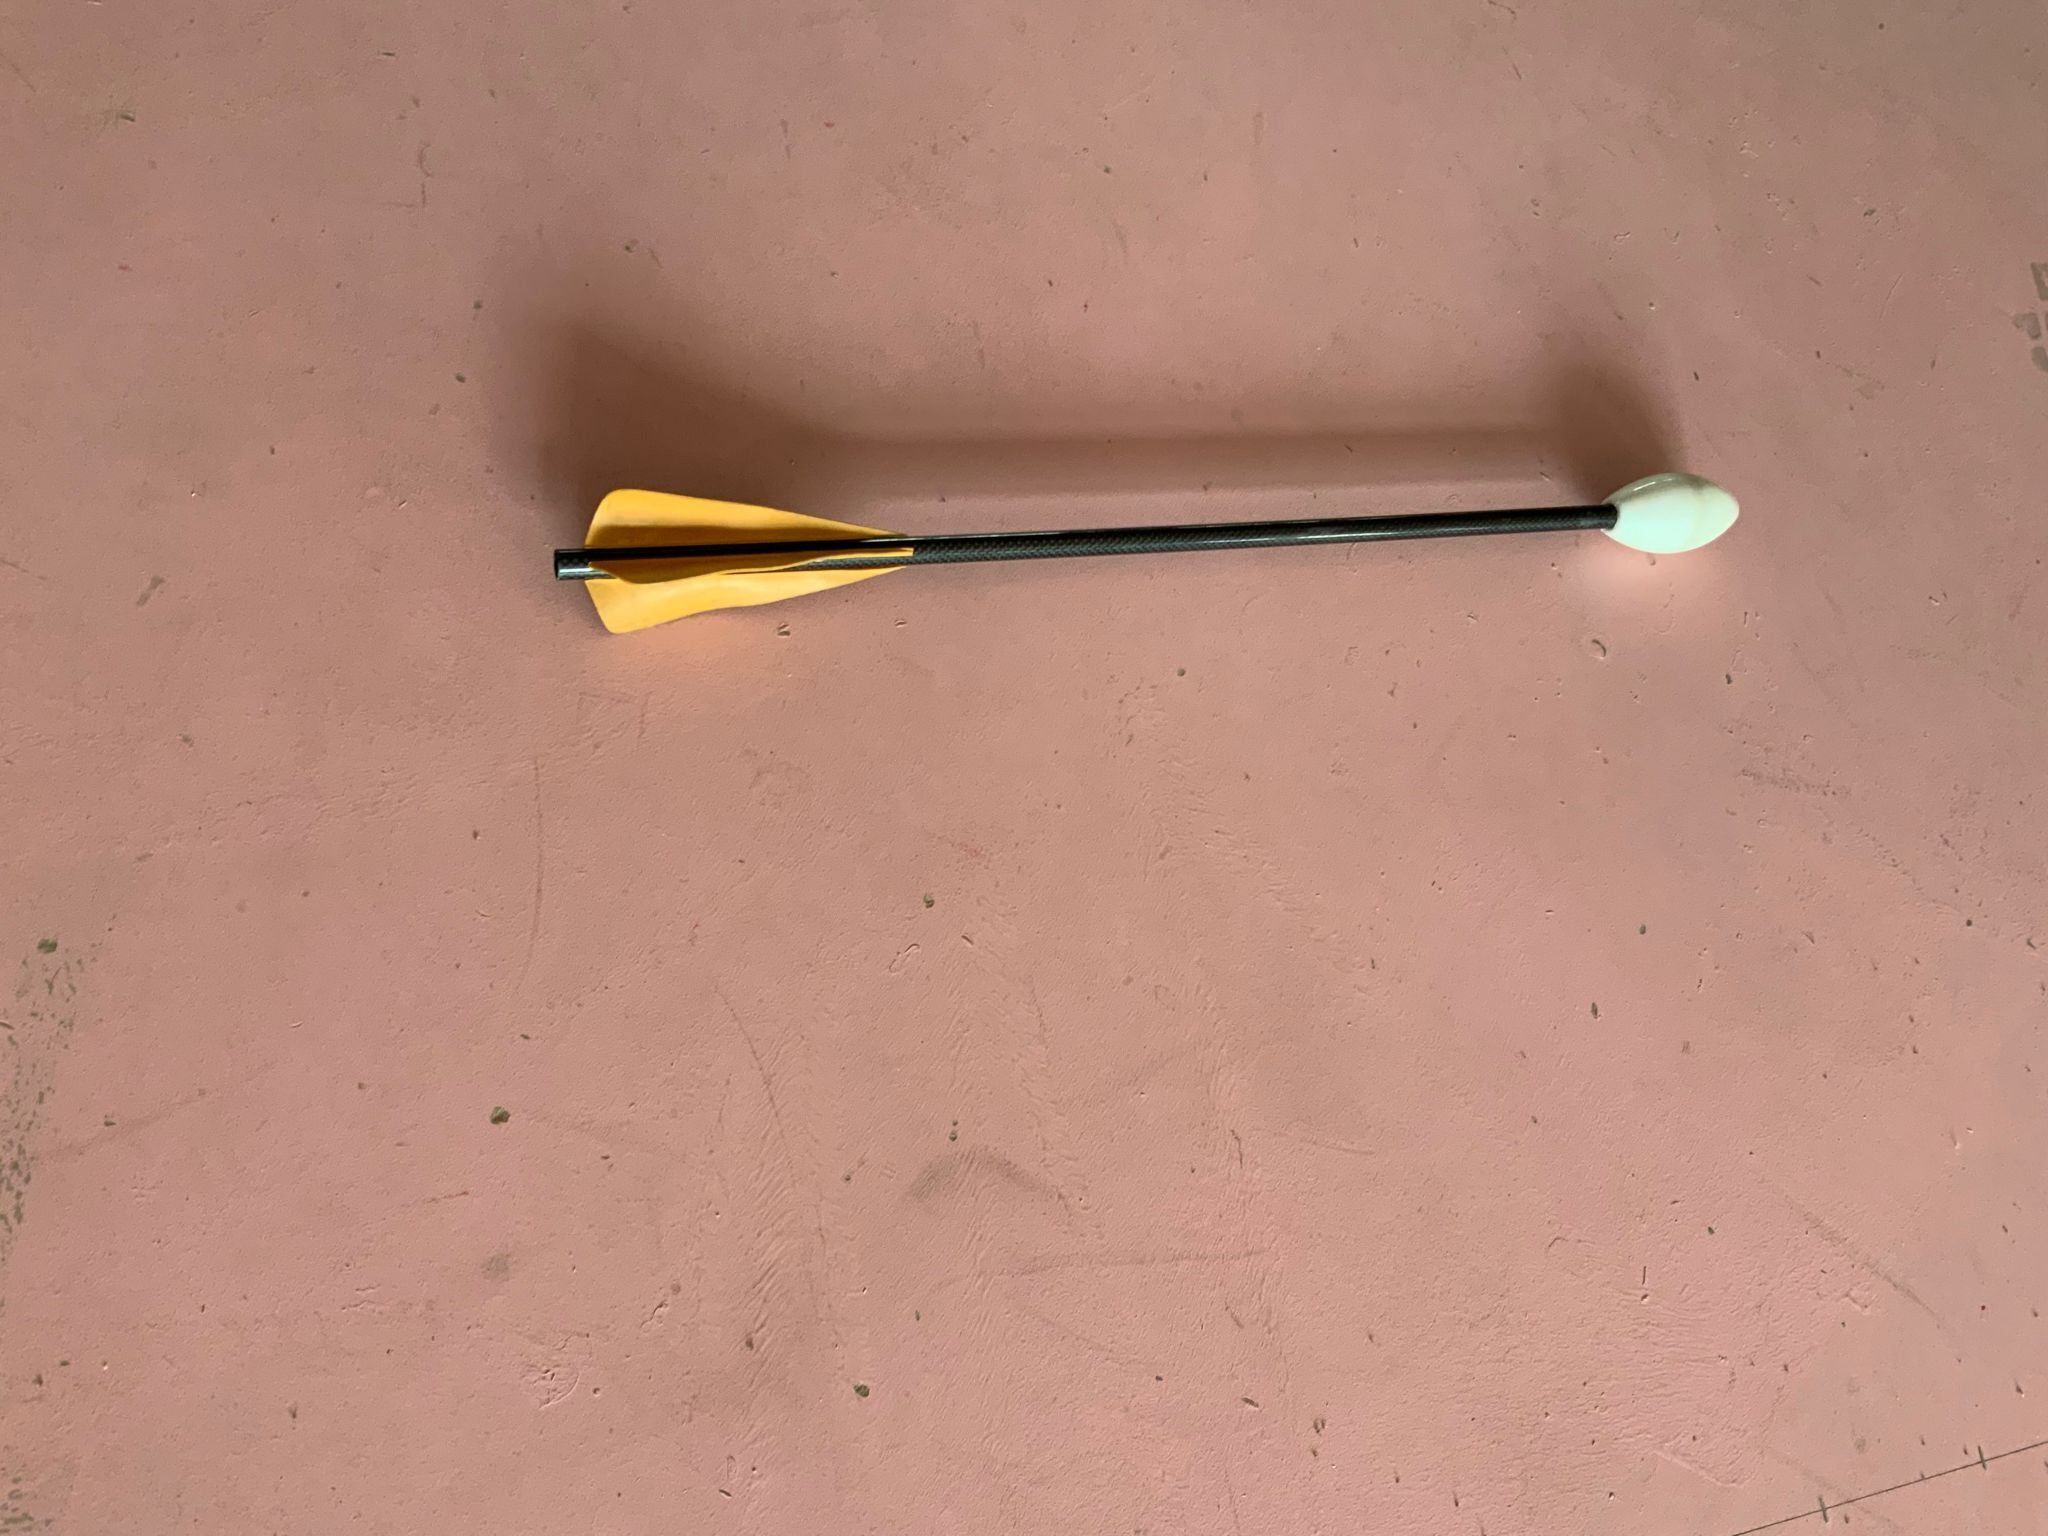arrow: (553, 468, 1743, 634)
arrowFront: (1595, 470, 1740, 561)
